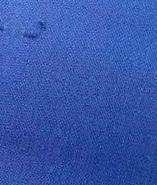knot: (20, 19, 50, 43)
